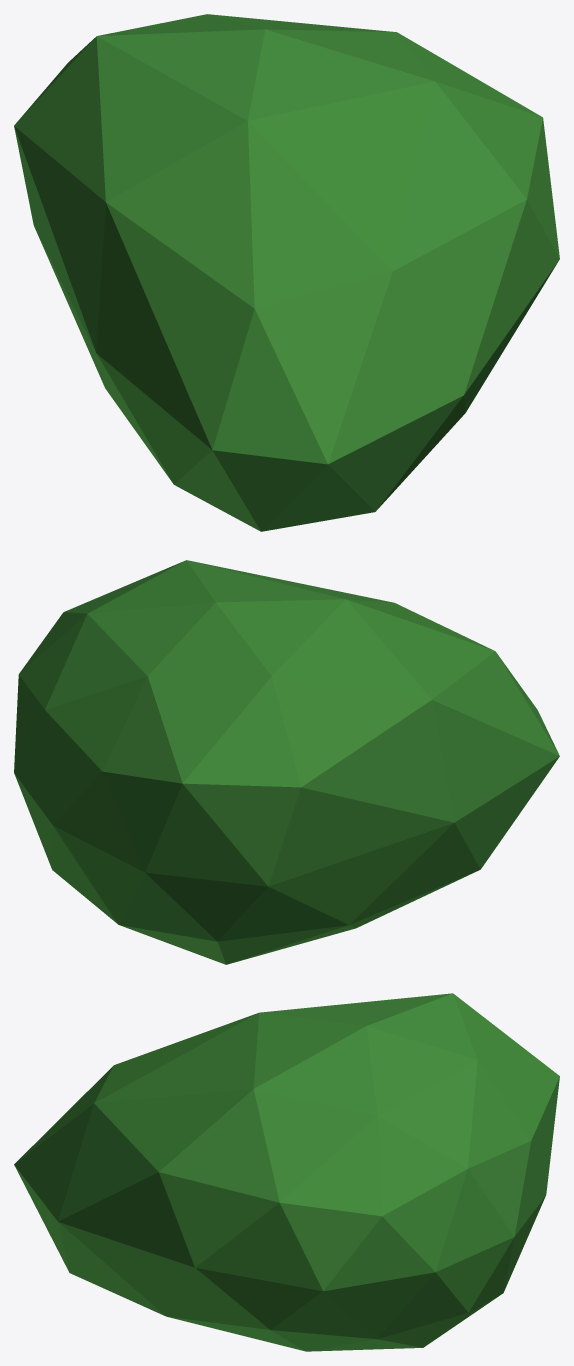
Rendered from Bush03.fbx.
3 renders of one model, top to bottom at view 1: azimuth 30°, elevation 25°; view 2: azimuth 150°, elevation 25°; view 3: azimuth 270°, elevation 25°, orthographic. The views are drawn at different scales.
Visible parts, largest first — view 1: Bush03; view 2: Bush03; view 3: Bush03.
Part boxes in pixels (x1,y1,x2,y2): Bush03: (14, 14, 559, 531); Bush03: (14, 560, 559, 964); Bush03: (14, 993, 559, 1351).
Bounding box in the file's own units: 253 × 203 × 318.
